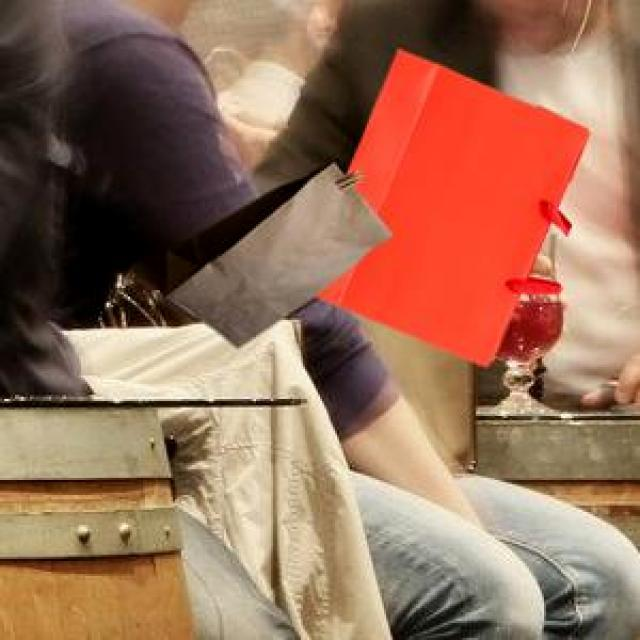Paper_Bag: (312, 46, 586, 364), (163, 161, 387, 345)
